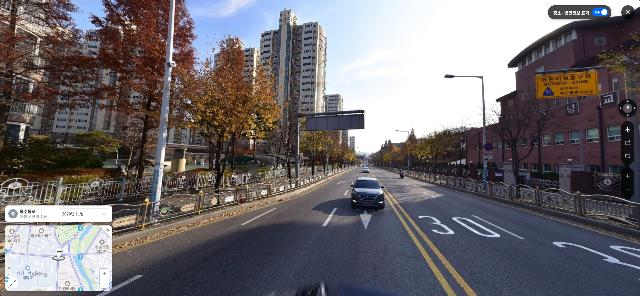ginkgo: (171, 35, 292, 168)
other: (0, 0, 198, 172)
